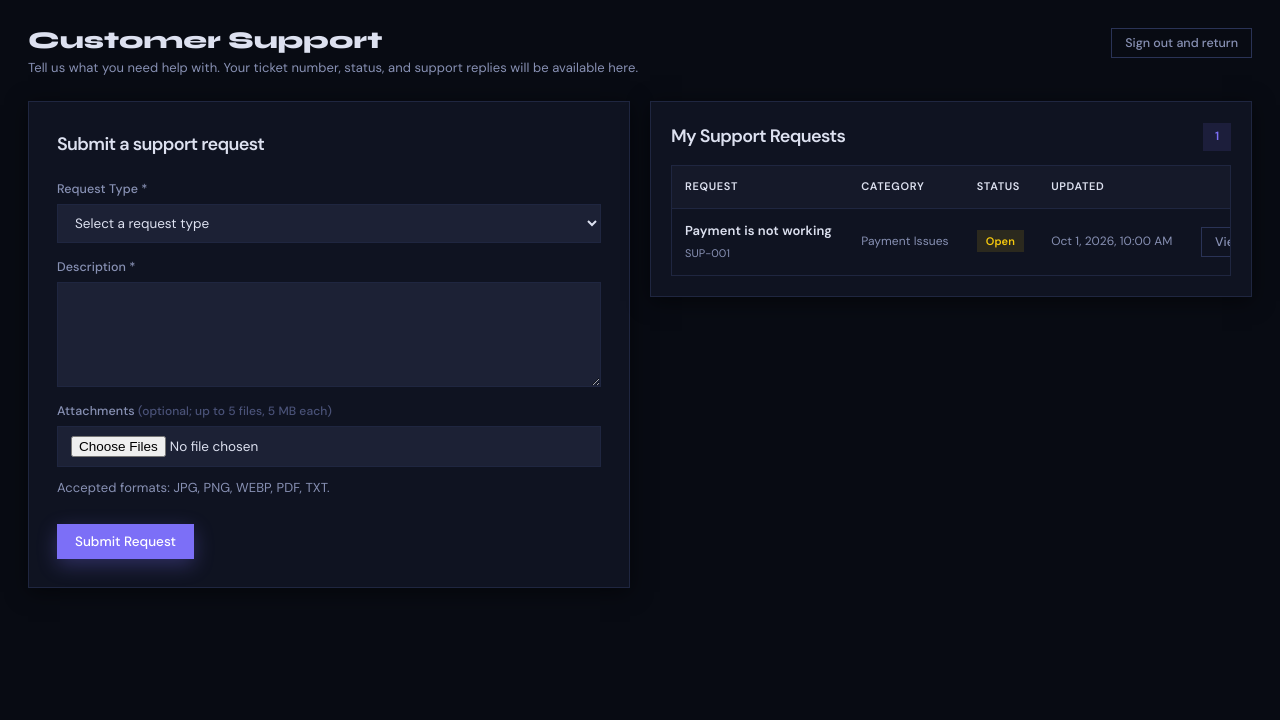
React Customer Support › loads real ticket IDs, replies, and statuses using the saved token
The image size is (1280, 720).
Expected: the text "SUP-001" is shown, [685,246,730,260]
Click the button "View": (1229, 242) [1201,227,1258,257]
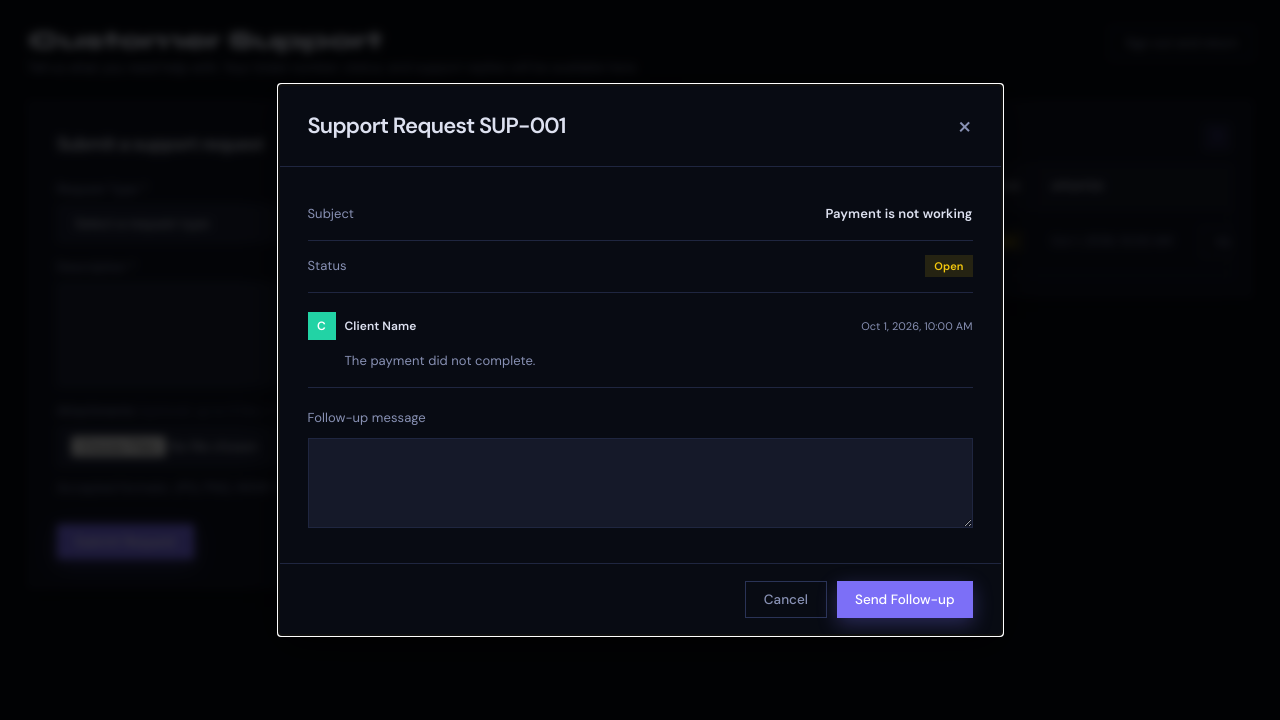
Expected: the dialog shows "The payment did not complete.", [344,352,536,369]
Expected: the text "Open" is shown, [925,255,972,277]
